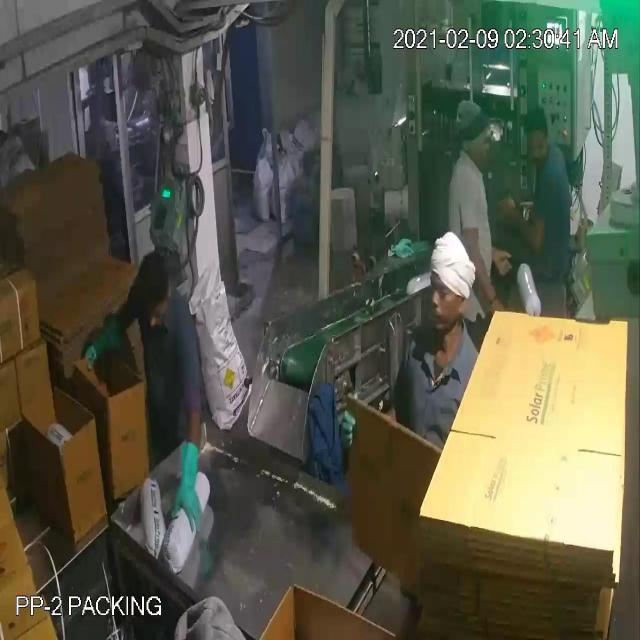Gloves: (44, 60, 523, 488)
